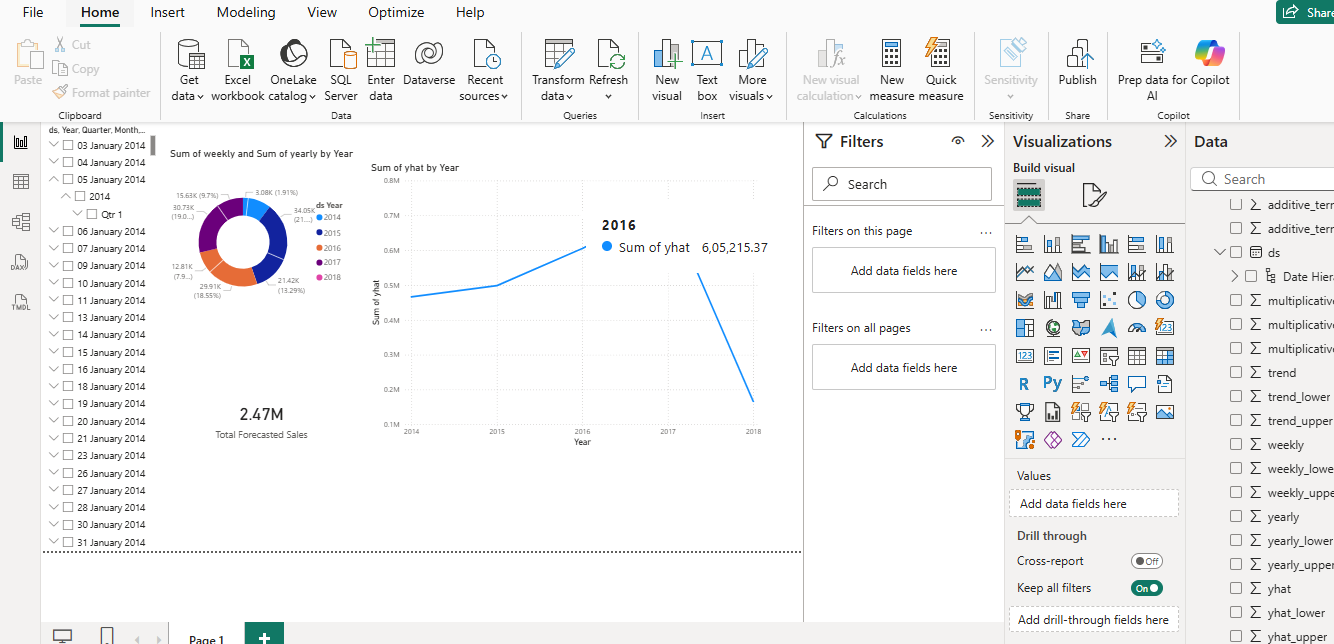

The page's visual inventory and layout, read from the dashboard file:
{"tool":"powerbi","page":{"name":"Page 1","canvas":[1280,720],"ordinal":0},"visuals":[{"type":"lineChart","fields":{"Category":["Superstore_Forecast.ds.Variation.Date Hierarchy.Year","Superstore_Forecast.ds.Variation.Date Hierarchy.Quarter","Superstore_Forecast.ds.Variation.Date Hierarchy.Month","Superstore_Forecast.ds.Variation.Date Hierarchy.Day"],"Y":["Sum(Superstore_Forecast.yhat)"]},"box":[549.3,65.5,665.2,485.5],"z":0},{"type":"slicer","fields":{"Values":["Superstore_Forecast.ds","Superstore_Forecast.ds.Variation.Date Hierarchy.Year","Superstore_Forecast.ds.Variation.Date Hierarchy.Quarter","Superstore_Forecast.ds.Variation.Date Hierarchy.Month","Superstore_Forecast.ds.Variation.Date Hierarchy.Day","Superstore_Forecast.yhat","Superstore_Forecast.yearly"]},"box":[0,0,196.5,720.6],"z":1000},{"type":"card","fields":{"Values":["Sum(Superstore_Forecast.yhat)"]},"box":[277.2,411.5,186.5,176.4],"z":2000},{"type":"donutChart","fields":{"Category":["Superstore_Forecast.ds.Variation.Date Hierarchy.Year","Superstore_Forecast.ds.Variation.Date Hierarchy.Quarter","Superstore_Forecast.ds.Variation.Date Hierarchy.Month","Superstore_Forecast.ds.Variation.Date Hierarchy.Day"],"Y":["Sum(Superstore_Forecast.weekly)","Sum(Superstore_Forecast.yearly)"]},"box":[211.7,42,319.2,300.7],"z":2001}]}

Visuals, with their boxes on the page's 1280x720 design canvas (x1, y1, x2, y2). These are canvas units, not pixel positions in the 1334x644 screenshot, which may show the page scaled, cropped or inside an application window:
lineChart - Superstore_Forecast.ds.Variation.Date Hierarchy.Year x Superstore_Forecast.ds.Variation.Date Hierarchy.Quarter: 549:66:1214:551
slicer - Superstore_Forecast.ds x Superstore_Forecast.ds.Variation.Date Hierarchy.Year: 0:0:196:721
card - Sum(Superstore_Forecast.yhat): 277:412:464:588
donutChart - Superstore_Forecast.ds.Variation.Date Hierarchy.Year x Superstore_Forecast.ds.Variation.Date Hierarchy.Quarter: 212:42:531:343
